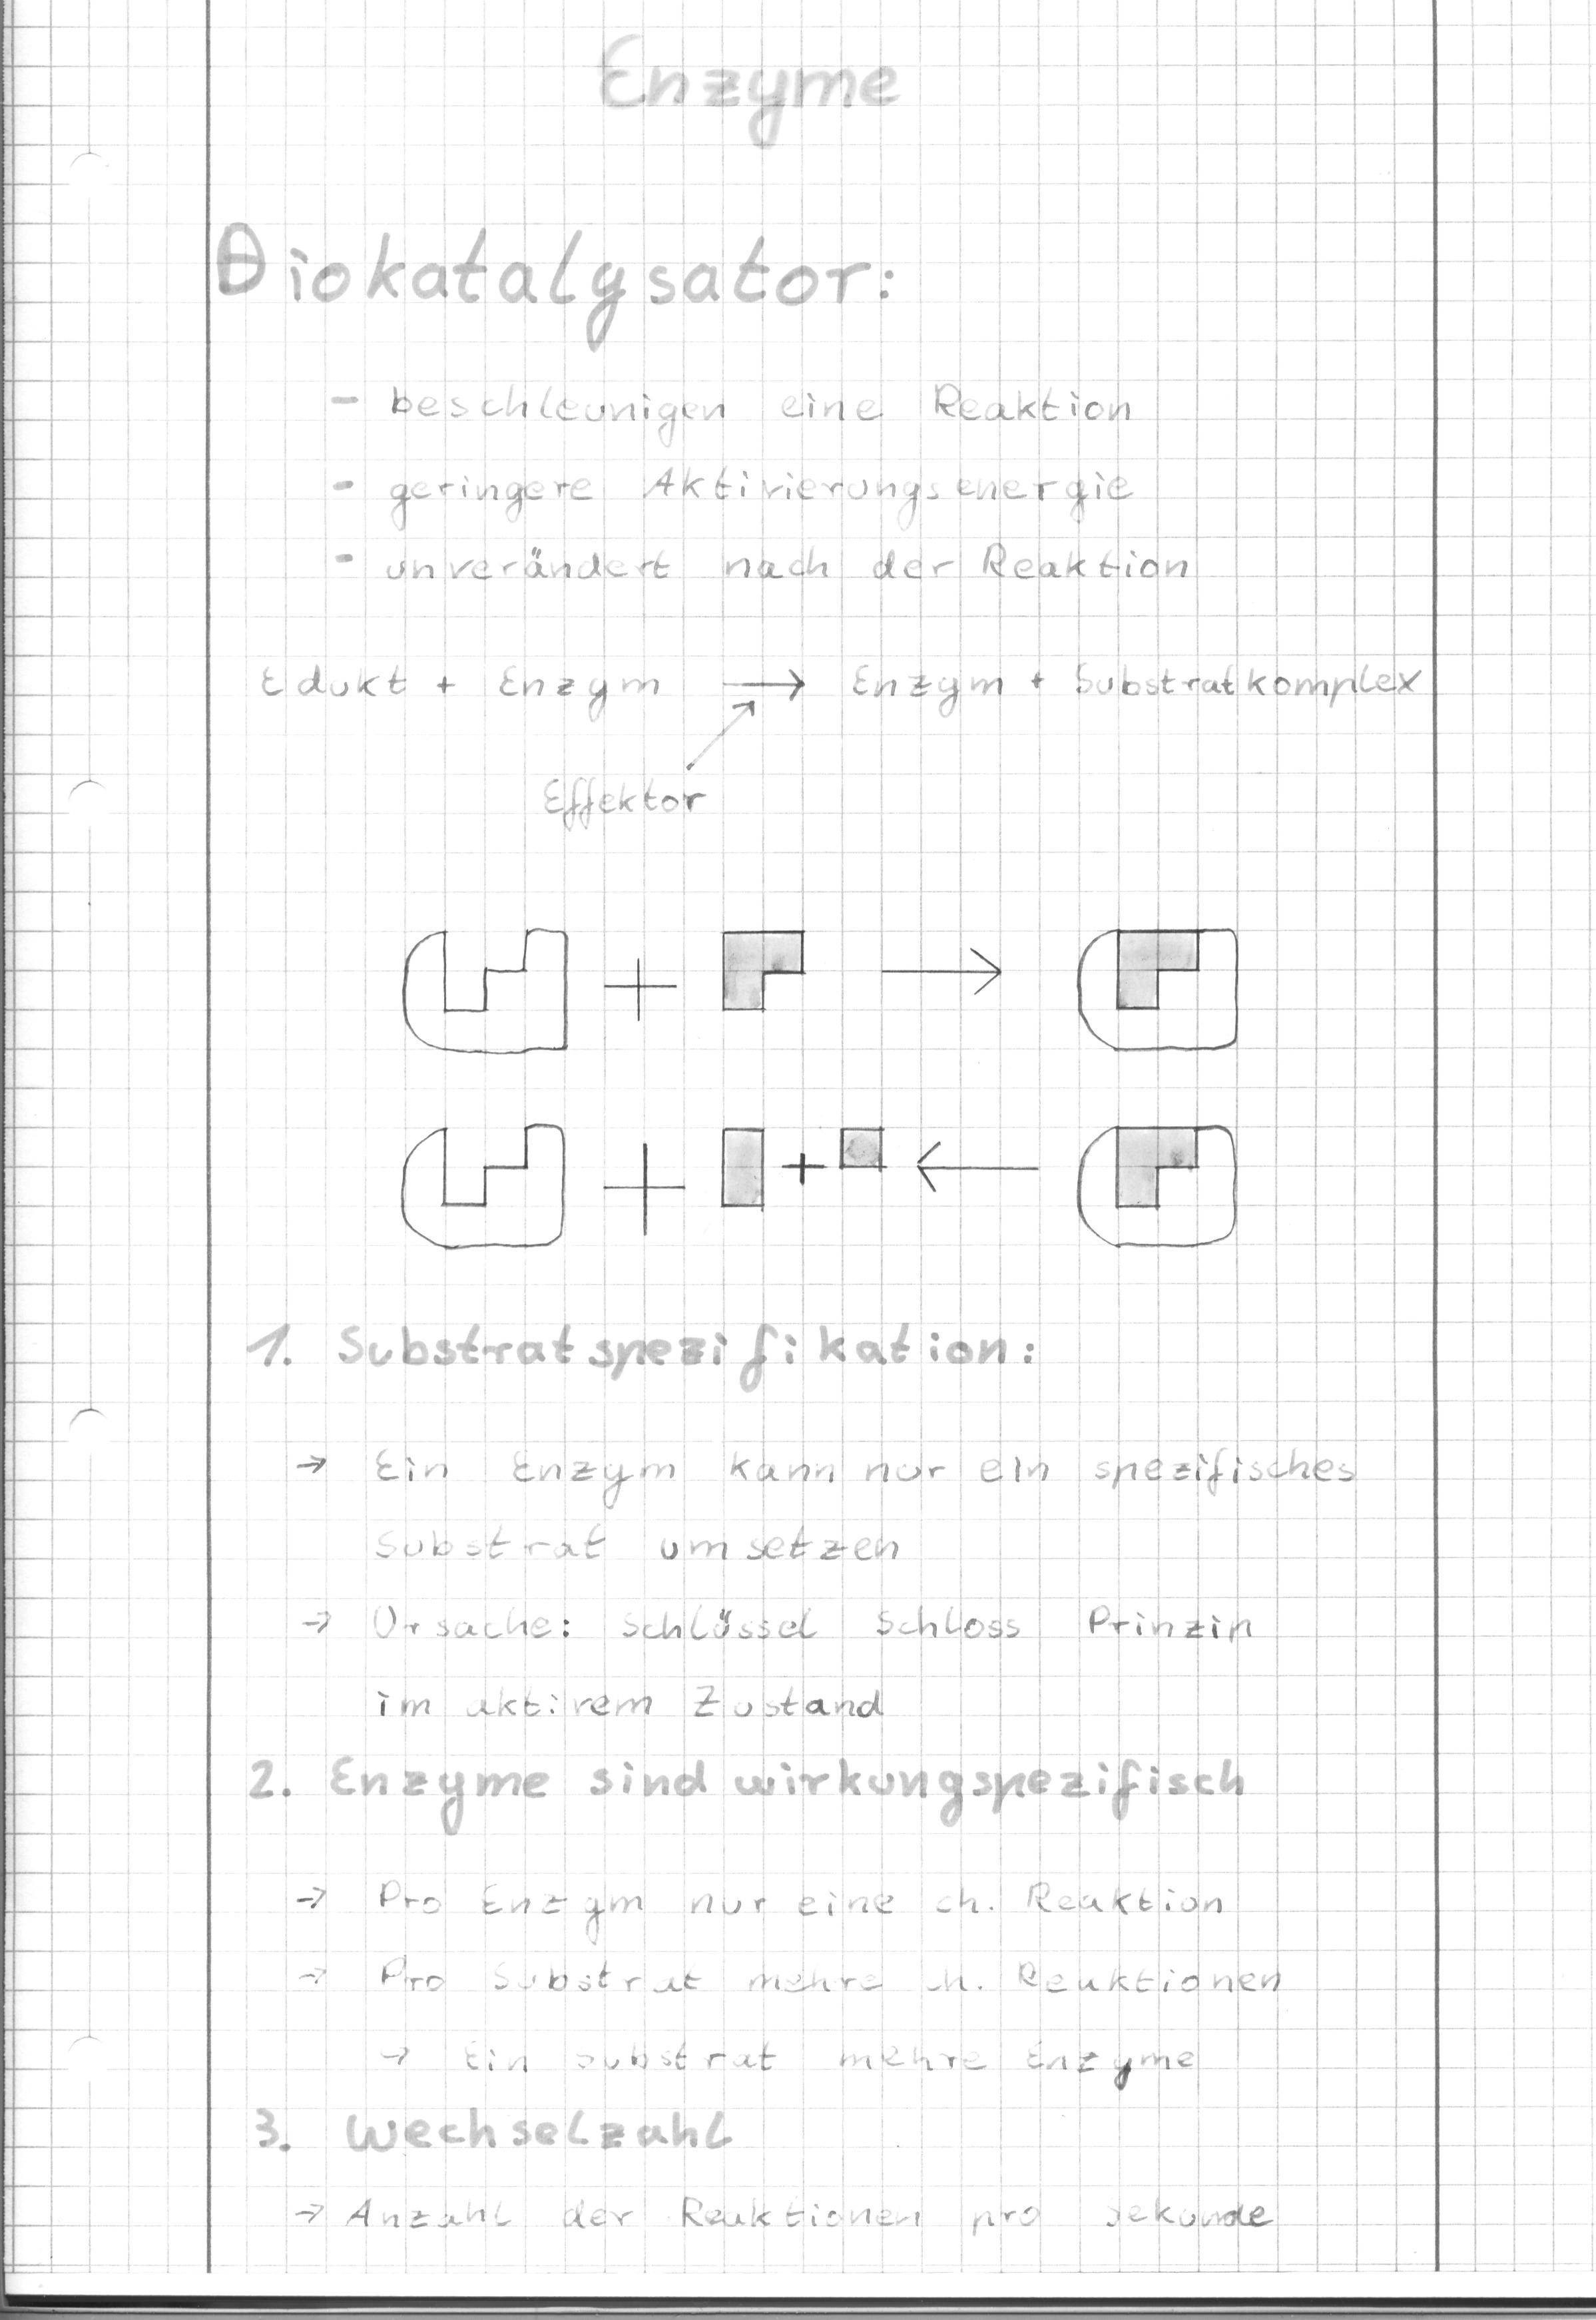word: (244, 647, 1427, 837), (372, 372, 1202, 595), (286, 1432, 1364, 1575), (282, 1866, 1292, 2006), (296, 1592, 1263, 1731), (362, 2027, 1204, 2112), (281, 2175, 1286, 2245)
